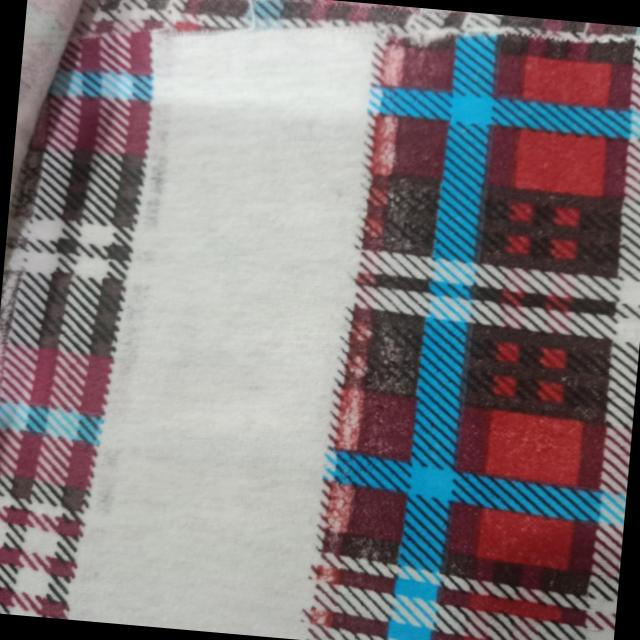selvet: (78, 0, 374, 640)
